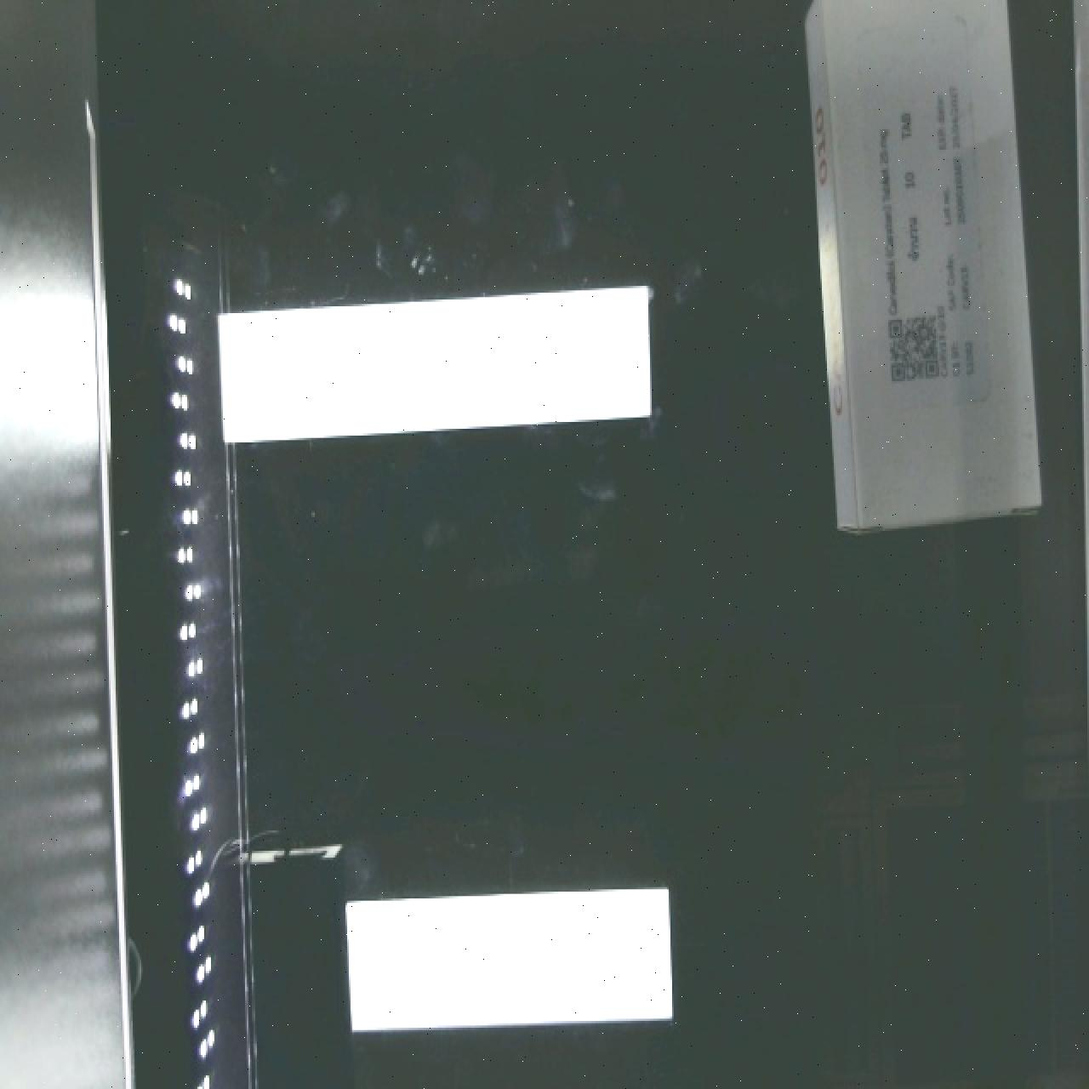qr_code: (877, 306, 958, 392)
